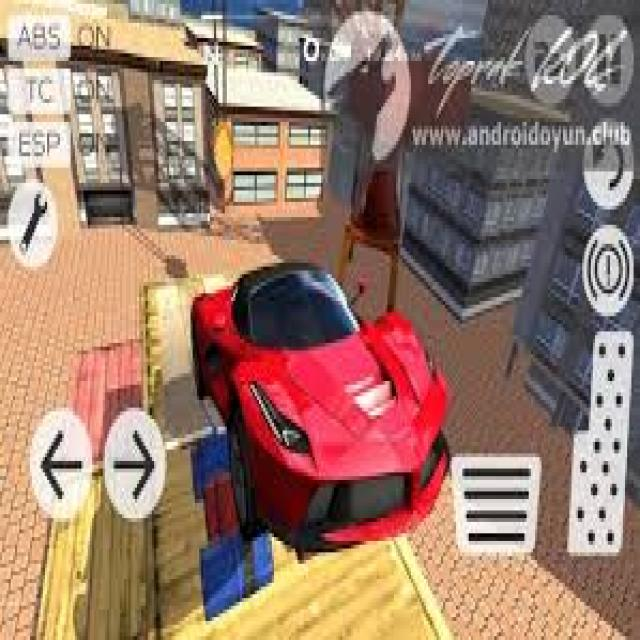Car: (187, 250, 455, 560)
